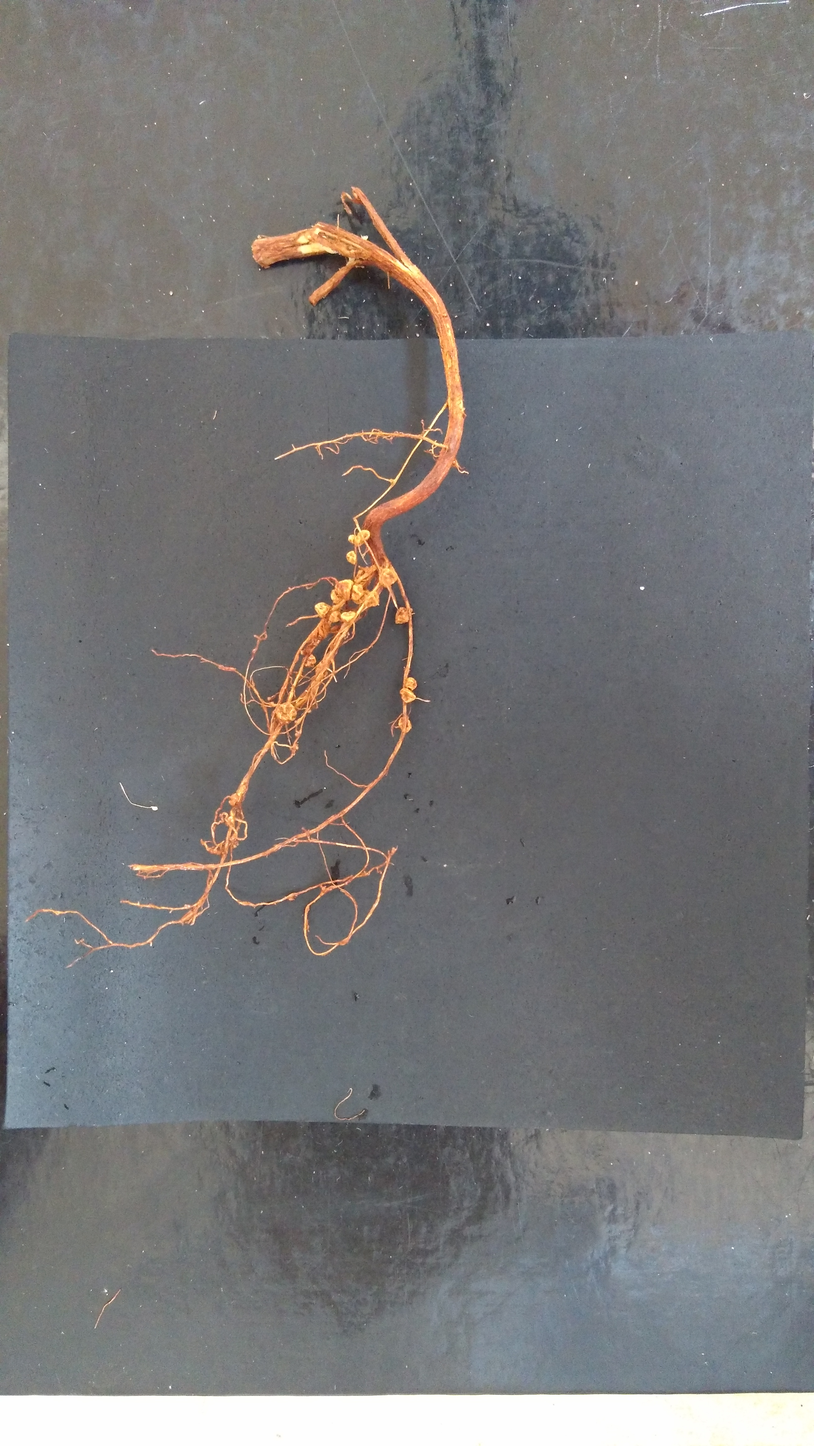nodule: (334, 579, 355, 603), (275, 703, 297, 725), (377, 567, 400, 588), (355, 566, 373, 588), (393, 606, 411, 626), (398, 687, 418, 705), (353, 529, 371, 548), (312, 601, 332, 618), (397, 716, 414, 734), (364, 590, 380, 608), (329, 588, 343, 605), (351, 582, 364, 600), (340, 610, 357, 623), (327, 609, 341, 624), (304, 653, 317, 669), (405, 676, 418, 691), (227, 792, 240, 807), (345, 550, 357, 566), (347, 534, 355, 545)
